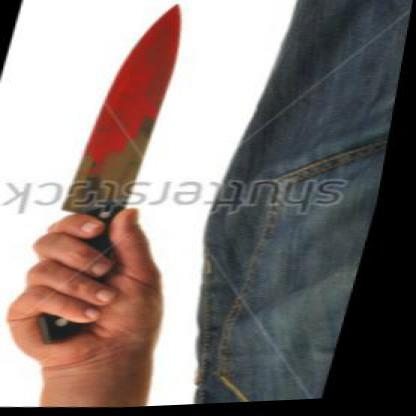knife: (23, 0, 225, 301)
